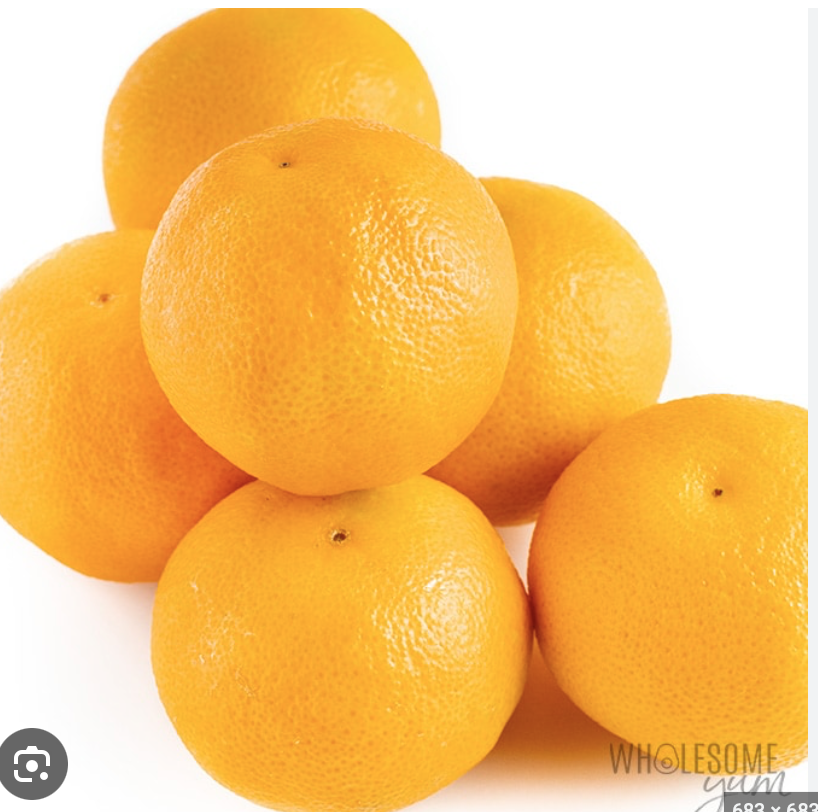orange: (130, 459, 591, 803), (126, 121, 544, 496), (522, 333, 818, 775)
